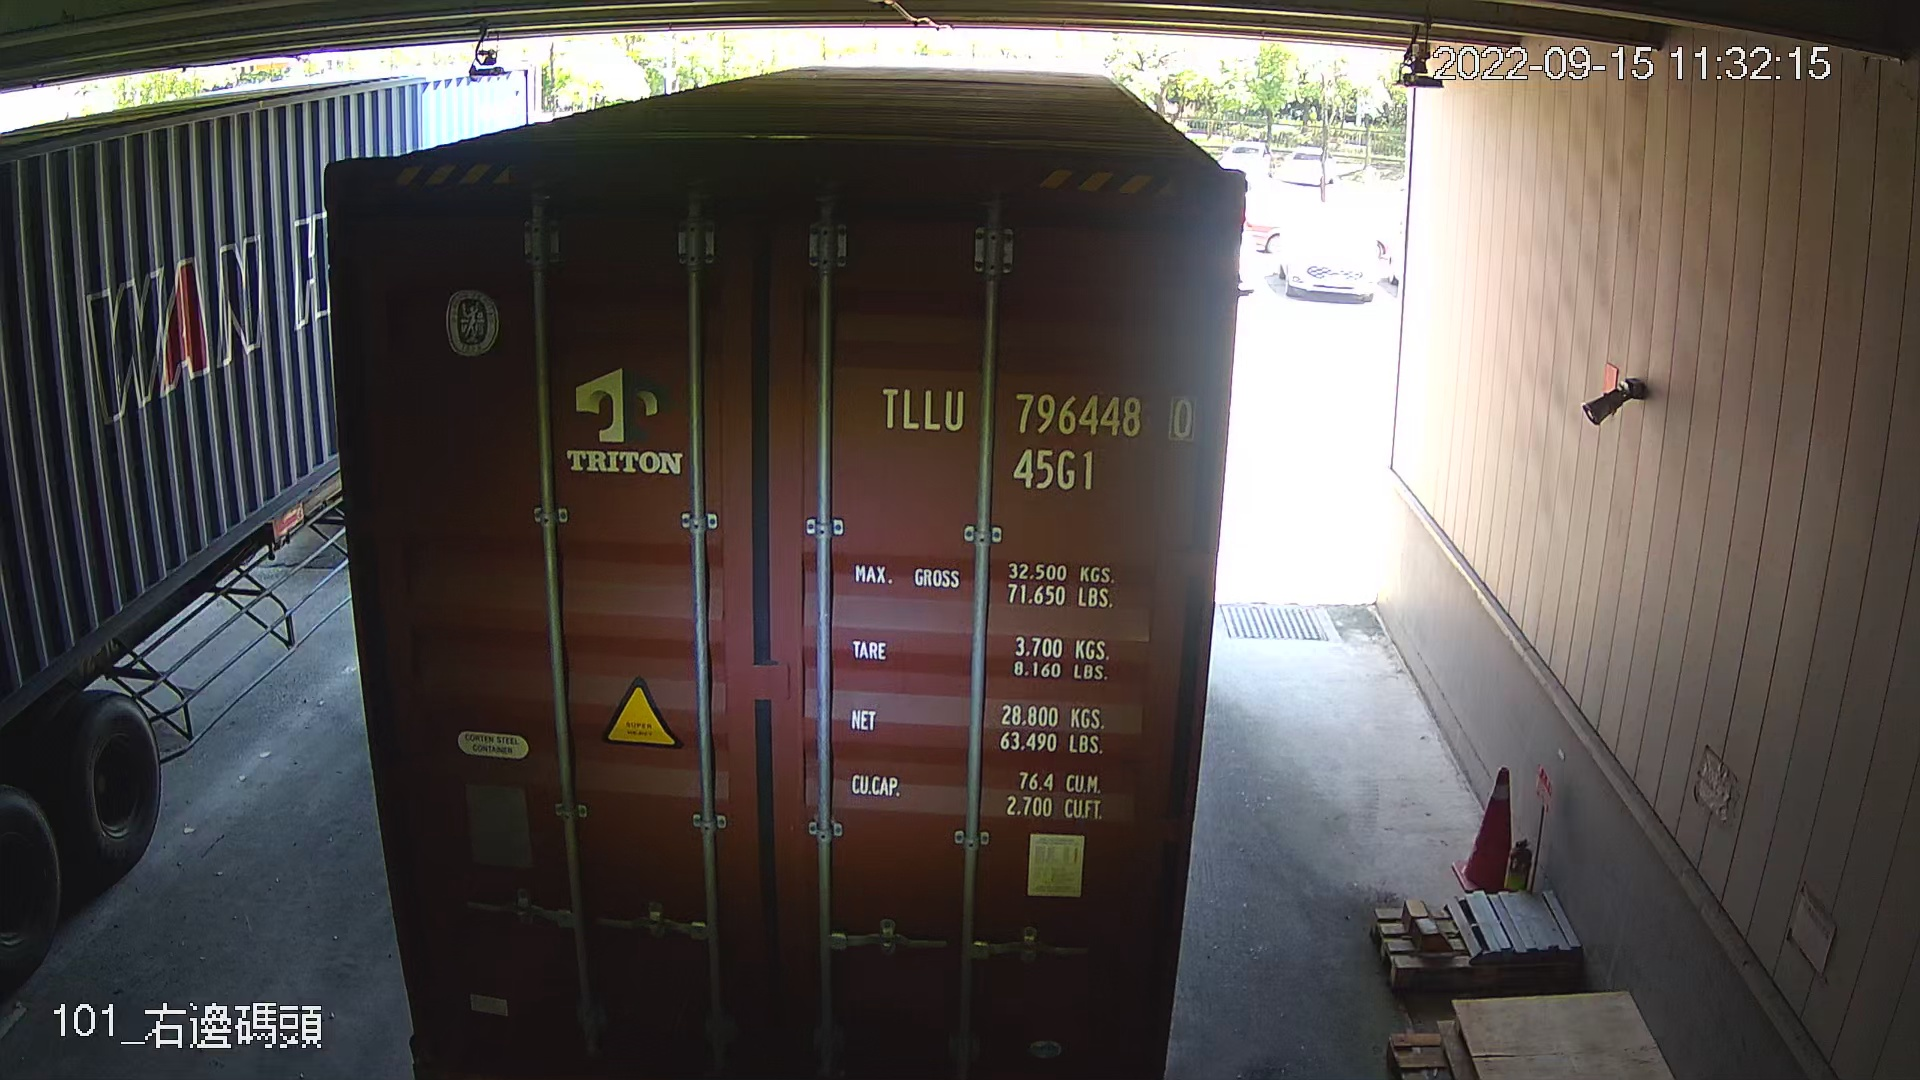container: (856, 375, 1204, 497)
